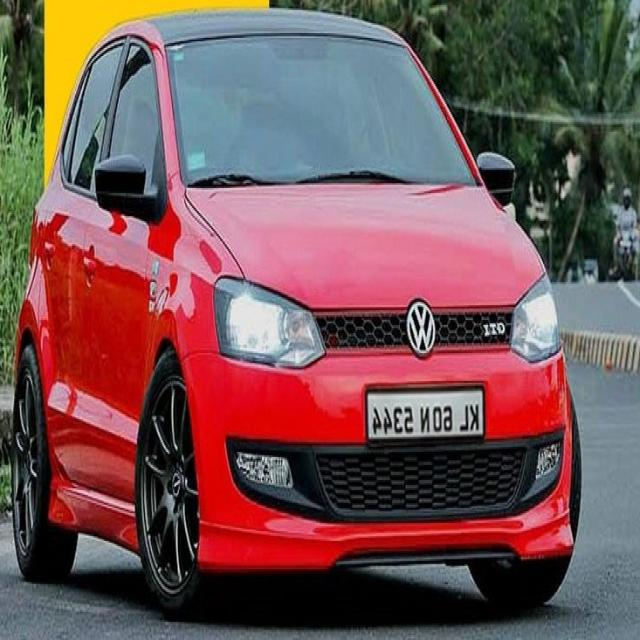number-plate: (360, 389, 480, 443)
